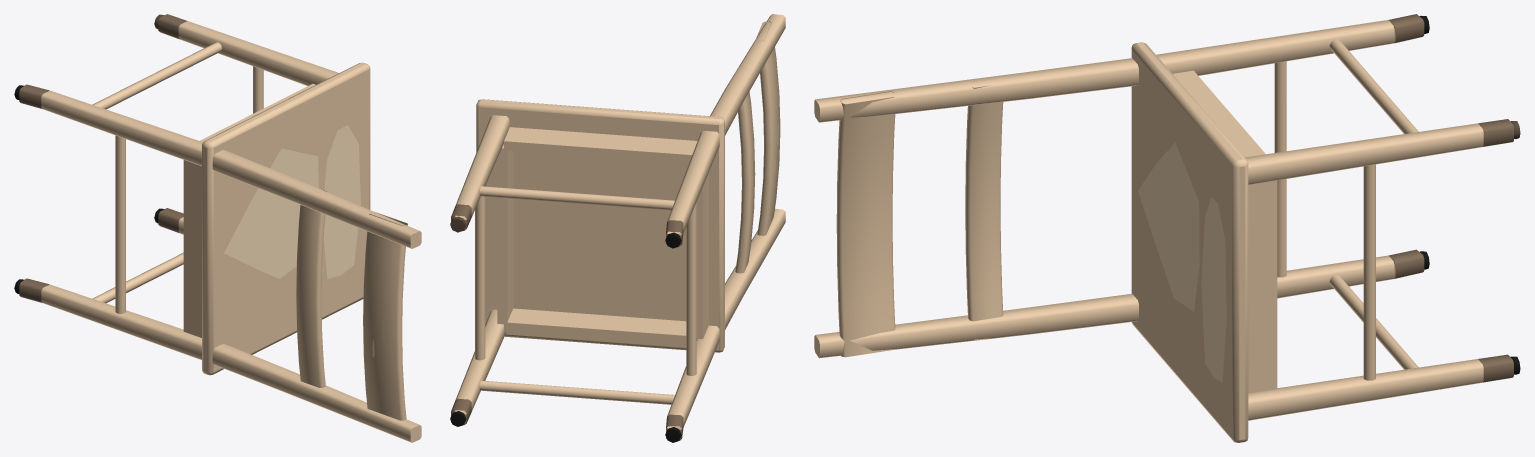
Rendered from chair@1.glb.
The picture shows the model from 3 angles, left to right: view 1: azimuth 30°, elevation 25°; view 2: azimuth 150°, elevation 25°; view 3: azimuth 270°, elevation 25°; orthographic projection. The views are drawn at different scales.
Parts seen in each view (by area): view 1: chair1, chair4, chair0; view 2: chair1, chair0, chair2; view 3: chair1, chair4, chair0.
Part boxes in pixels (bbox=[...]): chair1: bbox=[41, 21, 421, 442]; chair4: bbox=[224, 125, 384, 357]; chair0: bbox=[19, 14, 186, 302]; chair1: bbox=[455, 14, 785, 429]; chair0: bbox=[451, 204, 683, 440]; chair2: bbox=[450, 232, 681, 442]; chair1: bbox=[814, 20, 1483, 442]; chair4: bbox=[1138, 142, 1226, 382]; chair0: bbox=[1389, 14, 1513, 382].
Bounding box in the file's own units: 0.5713 × 0.456 × 1.03.
